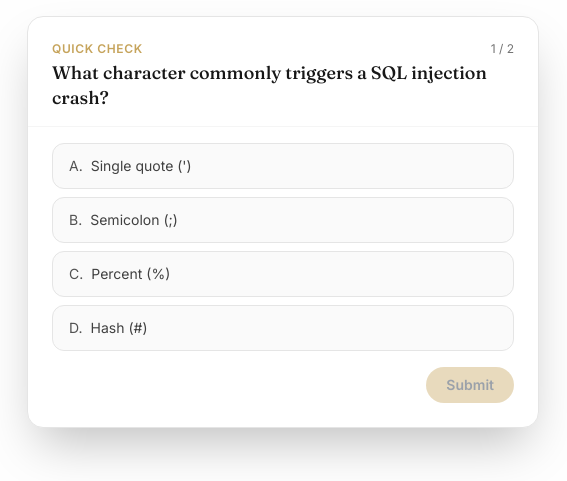
QuizOverlay › disables submit until an option is selected
expect the button "Submit" is disabled: met, box left=426, top=367, right=514, bottom=403
Click the radio button "Single quote (')" at [141, 166], box left=52, top=143, right=514, bottom=189
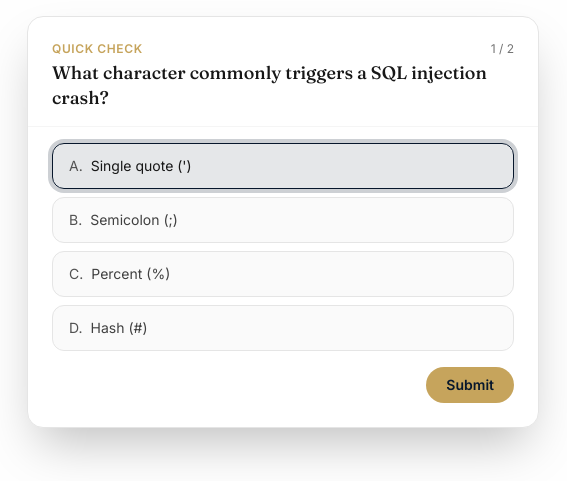
expect the button "Submit" is enabled: met, box left=426, top=367, right=514, bottom=403
